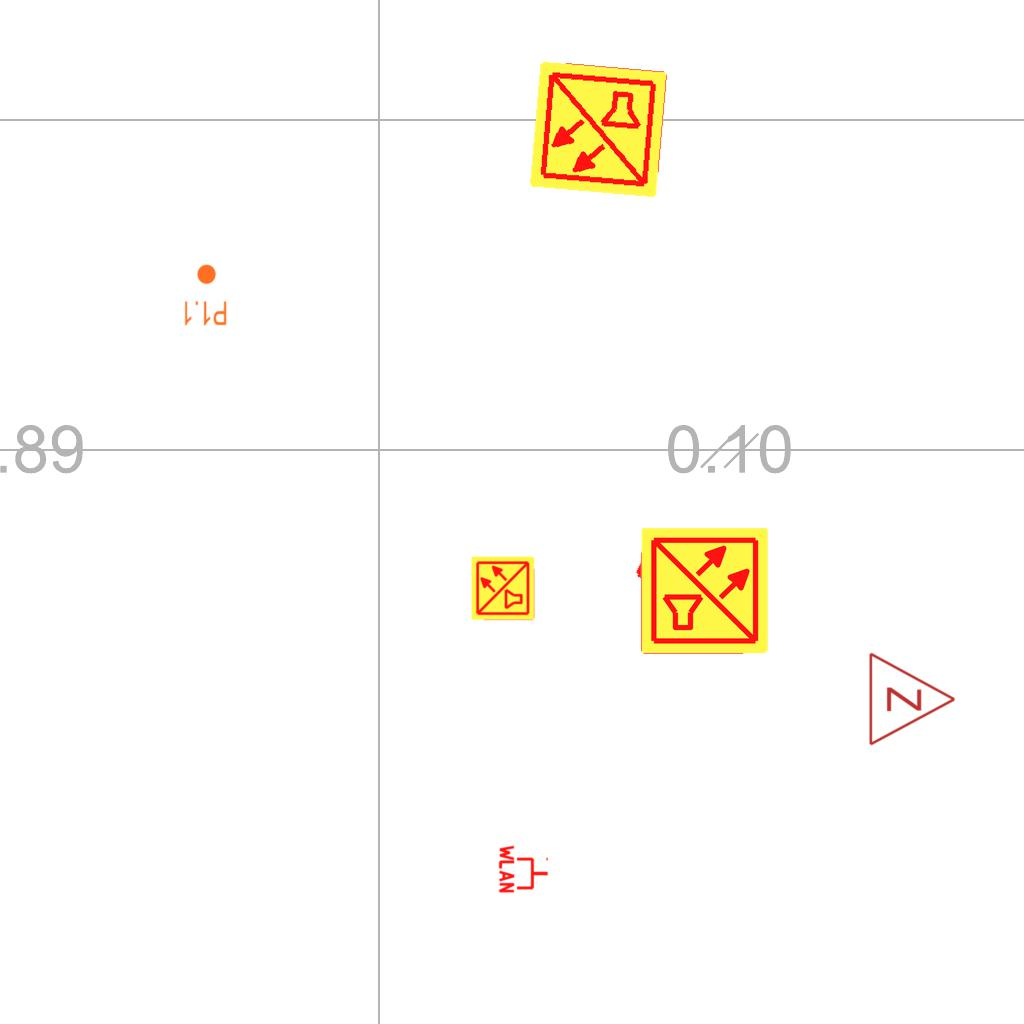Downlight_LED_Einbauleuchten_Flur: (182, 263, 228, 327)
NAM-Nichtautomatischer_Melder: (632, 525, 708, 601)
OKW_Multisensormelder_(Kombination_optischer_Rauch-Kahlenmonoxid_Waerme-Melder): (526, 57, 670, 201), (639, 525, 771, 657), (470, 555, 536, 621)
WLAN: (498, 843, 550, 895)
Zimmersignalleuchte: (862, 649, 962, 747)
